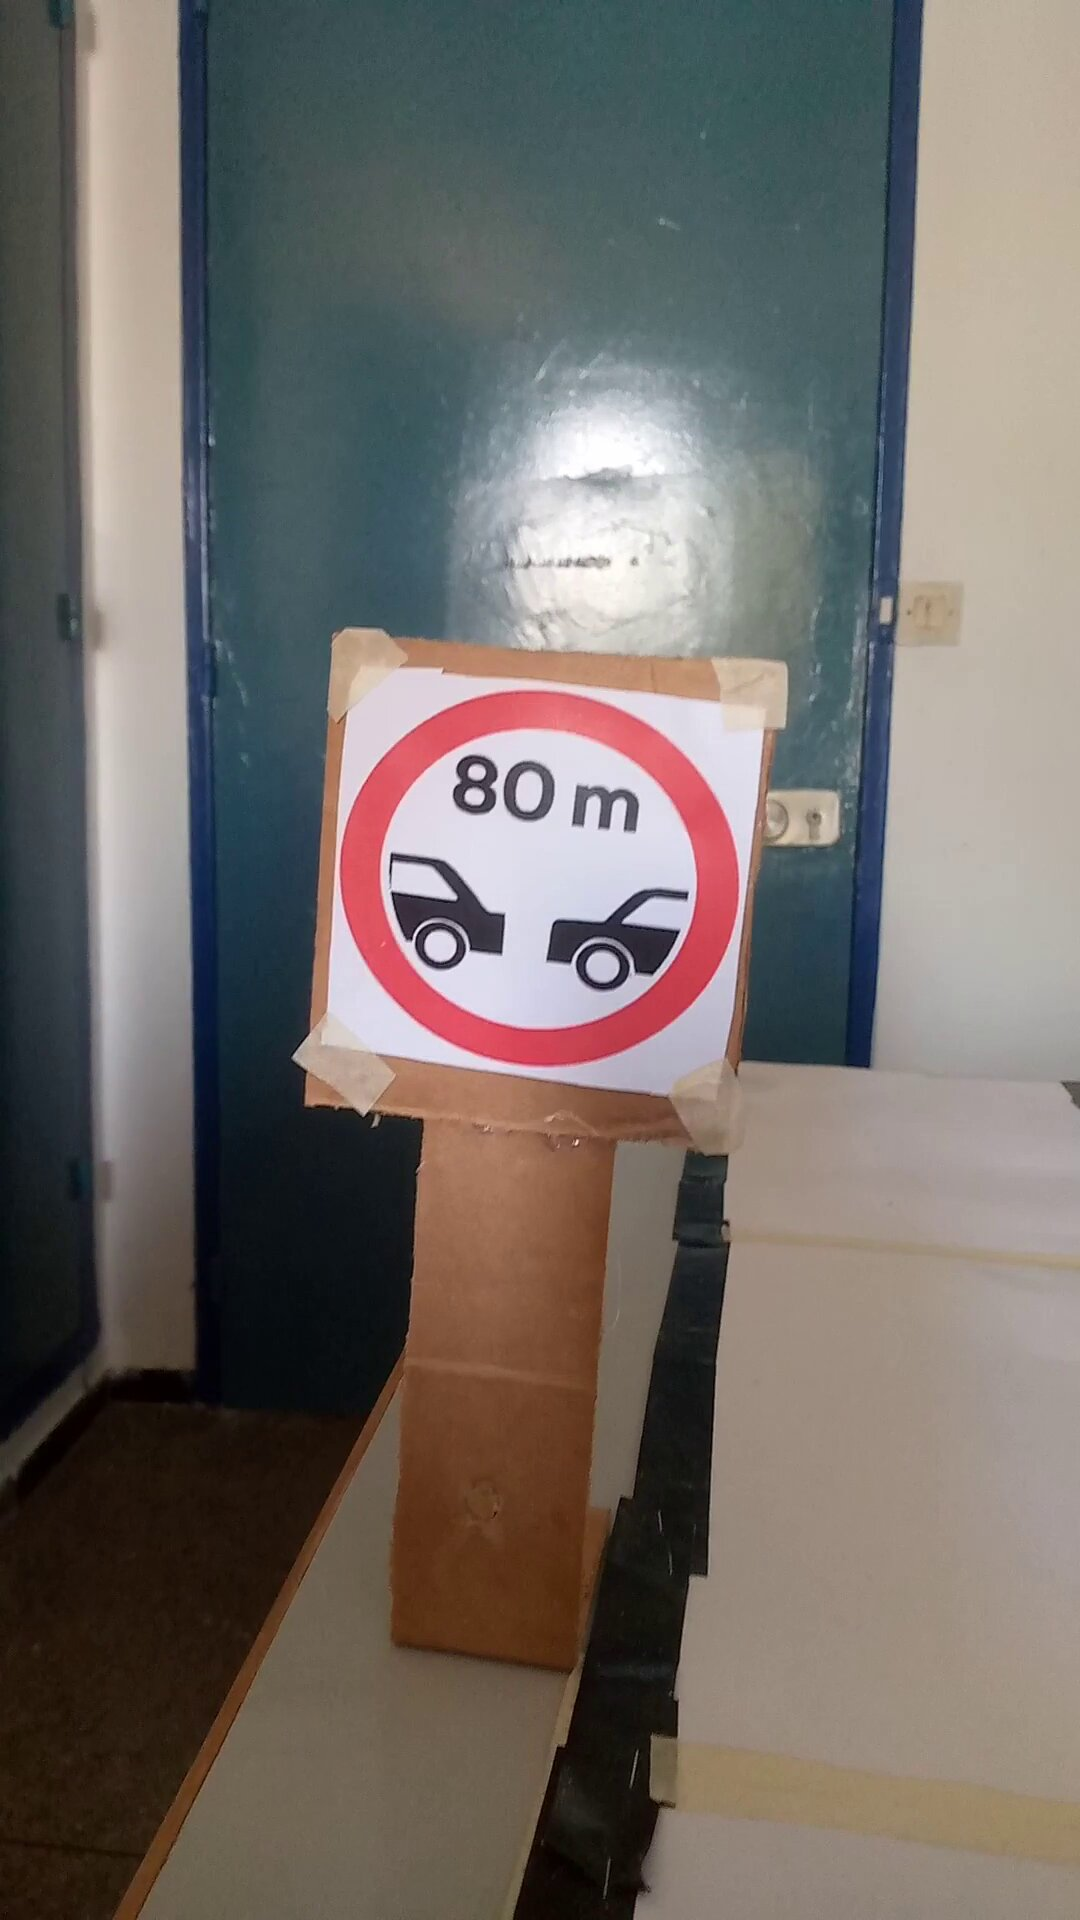panel001: (330, 634, 775, 1126)
